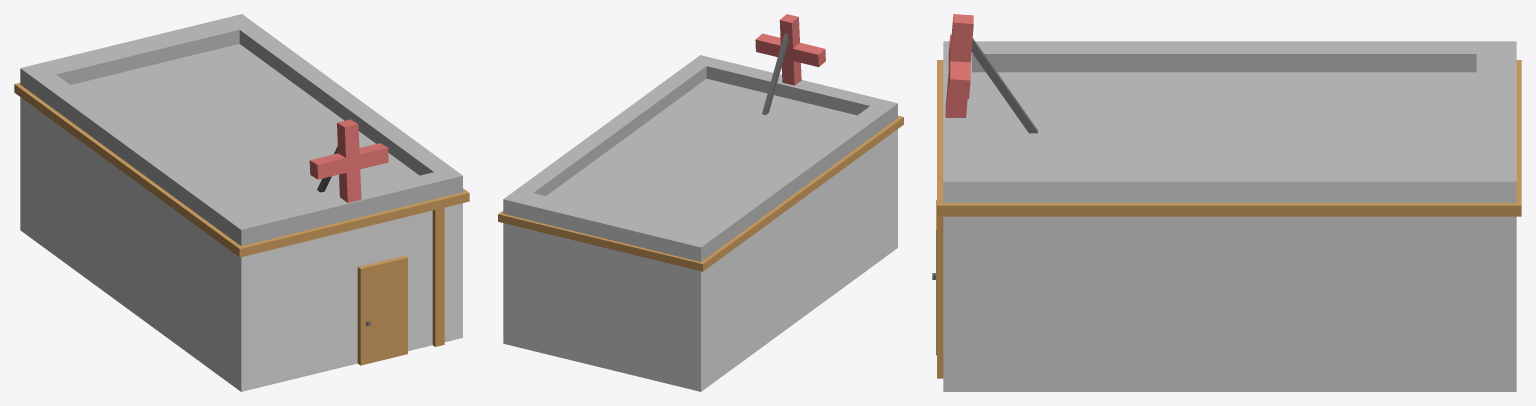
The model's file is bHospital1.glb.
3 renders of one model, left to right at view 1: azimuth 30°, elevation 25°; view 2: azimuth 150°, elevation 25°; view 3: azimuth 270°, elevation 25°, orthographic. The views are drawn at different scales.
Visible parts, largest first — view 1: Больница 2; view 2: Больница 2; view 3: Больница 2.
Part boxes in pixels (x1,y1,x2,y2): Больница 2: (14, 14, 469, 391); Больница 2: (498, 14, 903, 391); Больница 2: (932, 14, 1521, 391).
Bounding box in the file's own units: 8.22 × 8.05 × 14.06.
